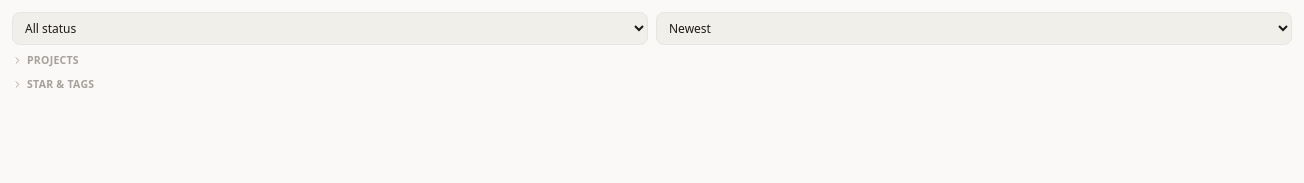
Test case: FilterRow pill context menu › right-clicking another pill moves the menu to it
Click the button "Projects" at (53, 60), box [12,53,1292,69]
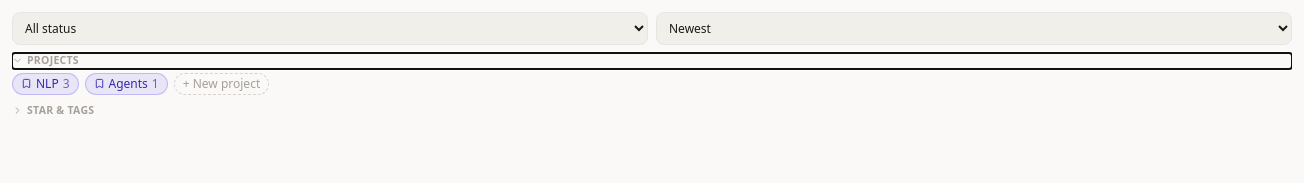
Right-click the button "NLP 3" at (45, 84), box [12,73,78,95]
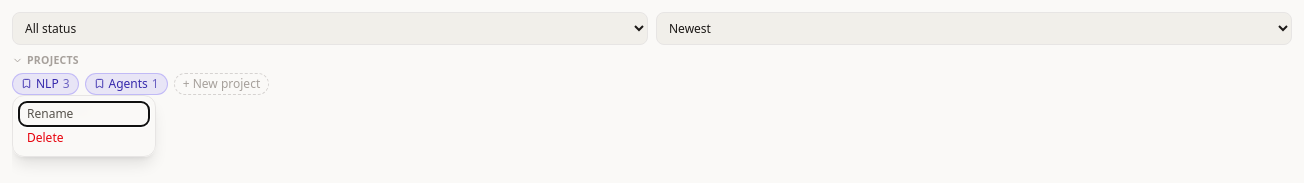
Right-click the button "Agents 1" at (126, 84), box [84,73,168,95]
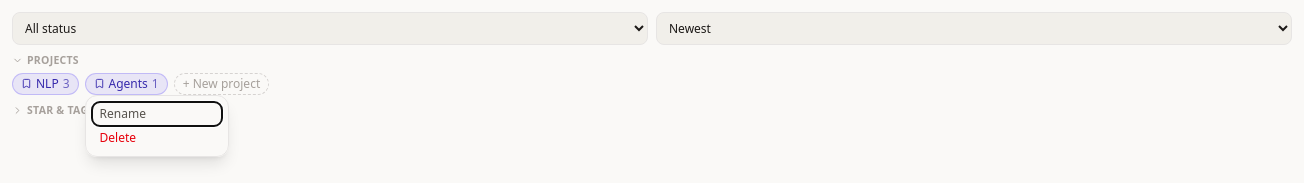
Result: the menu named "Agents options" is shown at [84,95,228,157]
